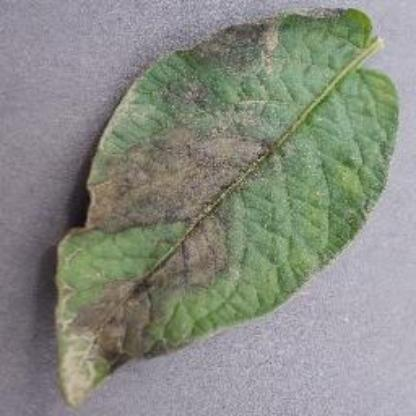Late-Blight: (25, 9, 416, 404)
